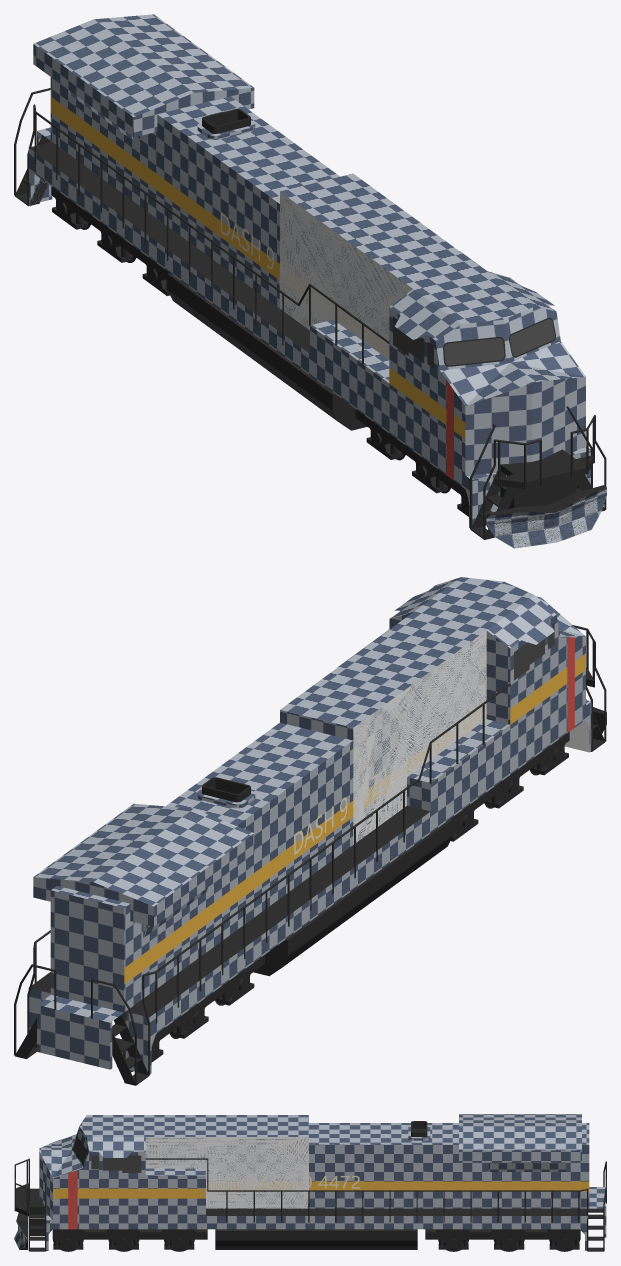
The model's file is dash9-v5-checker.dae.
3 views of the same model, one above another, from view 1: azimuth 30°, elevation 25°; view 2: azimuth 150°, elevation 25°; view 3: azimuth 270°, elevation 25° (orthographic). The views are drawn at different scales.
Visible parts, largest first — view 1: half_body (×6), body (×3), group_5, bogie_mechanism (×2), box_right, group_6 (×2), group_2 (×2), stairs, group_4; view 2: half_body (×4), body, group_5, box_right, bogie_mechanism (×2), stairs, group_4; view 3: half_body (×5), body (×2), bogie_mechanism (×2), group_5, box_left, group_4, group_2 (×2), stairs (×2), group_0.
Part boxes in pixels (x1,y1,x2,y2): half_body (×6): [28, 14, 590, 527]; body (×3): [279, 192, 585, 467]; group_5: [167, 273, 367, 430]; bogie_mechanism (×2): [51, 186, 468, 516]; box_right: [310, 319, 389, 411]; group_6 (×2): [486, 487, 606, 548]; group_2 (×2): [495, 449, 593, 488]; stairs: [471, 464, 513, 539]; group_4: [27, 104, 256, 273]; half_body (×4): [28, 577, 591, 1073]; body: [353, 630, 486, 844]; group_5: [253, 818, 453, 976]; box_right: [407, 719, 510, 811]; bogie_mechanism (×2): [151, 732, 569, 1062]; stairs: [104, 1014, 149, 1085]; group_4: [142, 809, 377, 1075]; half_body (×5): [30, 1114, 606, 1250]; body (×2): [39, 1137, 308, 1215]; bogie_mechanism (×2): [52, 1229, 580, 1249]; group_5: [215, 1229, 417, 1249]; box_left: [145, 1168, 205, 1215]; group_4: [309, 1188, 588, 1251]; group_2 (×2): [15, 1183, 44, 1216]; stairs (×2): [29, 1214, 603, 1251]; group_0: [145, 1158, 308, 1191].
Size of the model in its own units: 144 by 854 by 187.
4 materials, 1 textured.
